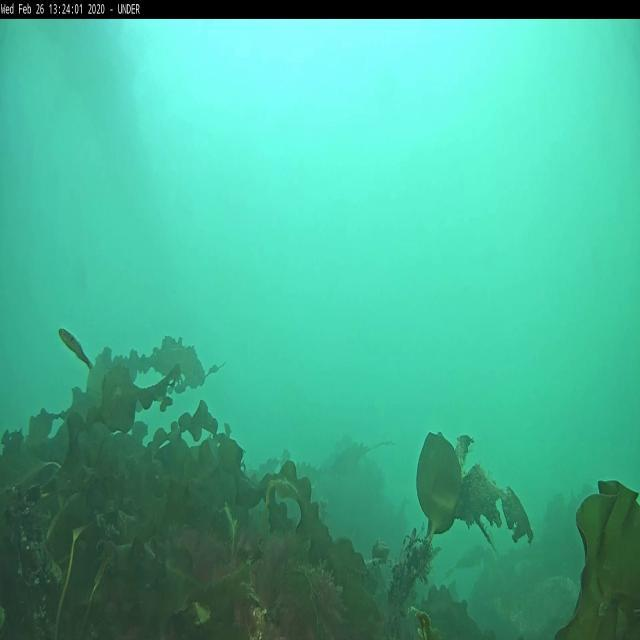fish: (58, 327, 94, 372)
